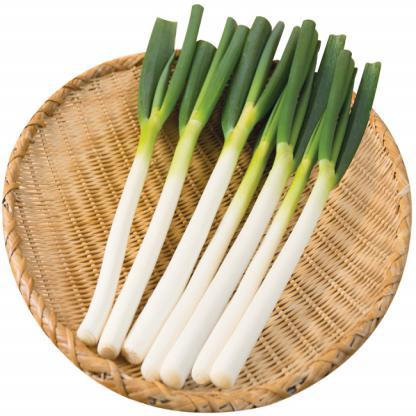green onion: (181, 40, 375, 382), (129, 20, 315, 367), (77, 0, 235, 349)
